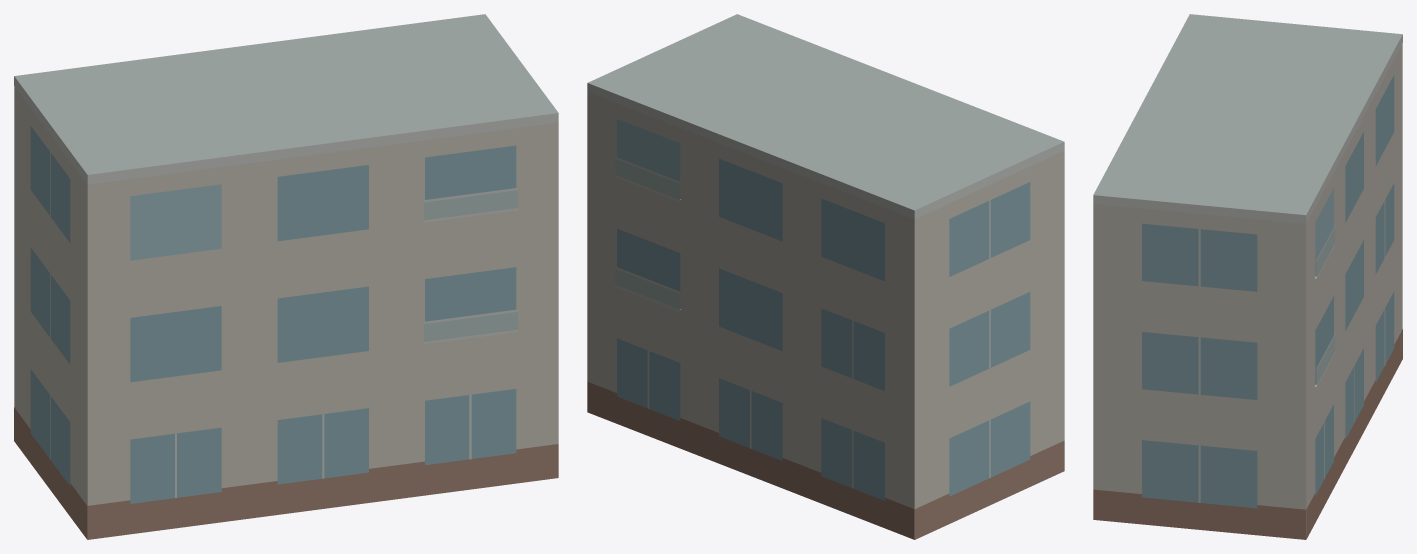
Rendered from survey-upis-32459573.glb.
The picture shows the model from 3 angles, left to right: view 1: azimuth 30°, elevation 25°; view 2: azimuth 150°, elevation 25°; view 3: azimuth 270°, elevation 25°; orthographic projection. The views are drawn at different scales.
Parts seen in each view (by area): view 1: survey-upis-32459573.tmp; view 2: survey-upis-32459573.tmp; view 3: survey-upis-32459573.tmp.
Part boxes in pixels (x1,y1,x2,y2): survey-upis-32459573.tmp: (14,14,558,539); survey-upis-32459573.tmp: (587,14,1064,539); survey-upis-32459573.tmp: (1093,14,1402,539).
Size of the model in its own units: 12.17 by 9.15 by 7.92.
